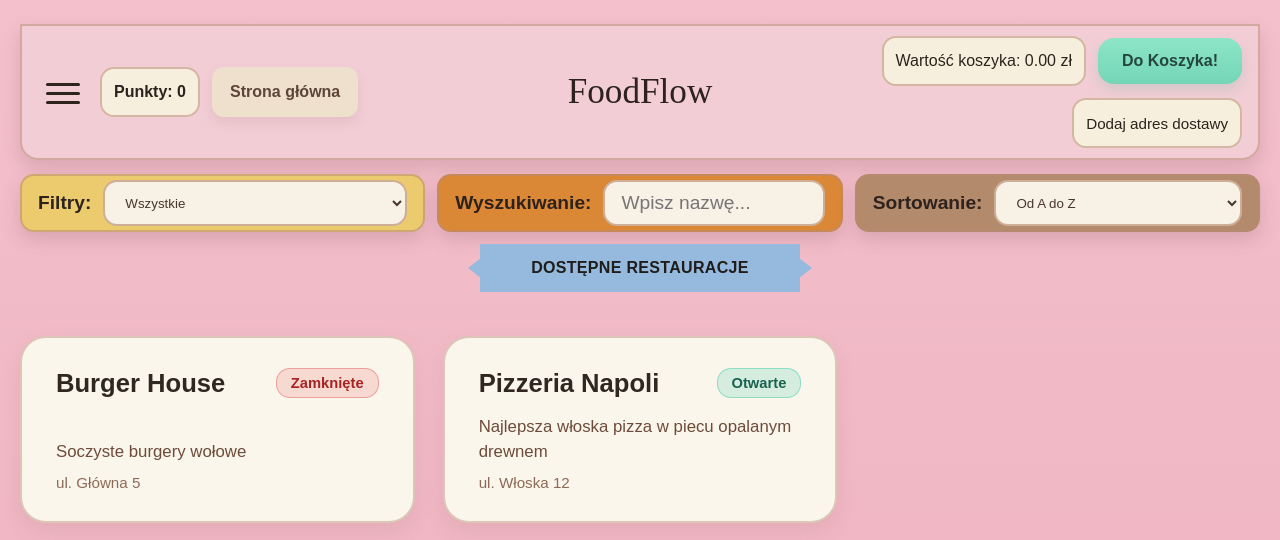
Scenario: HomeScreen Component › filters restaurants by search query
expect the text "Pizzeria Napoli" is shown: met, box [479,368,659,398]
Step 1. Type "burger" into the field with placeholder "Wpisz nazwę..." → (714, 203), box [604,180,825,226]
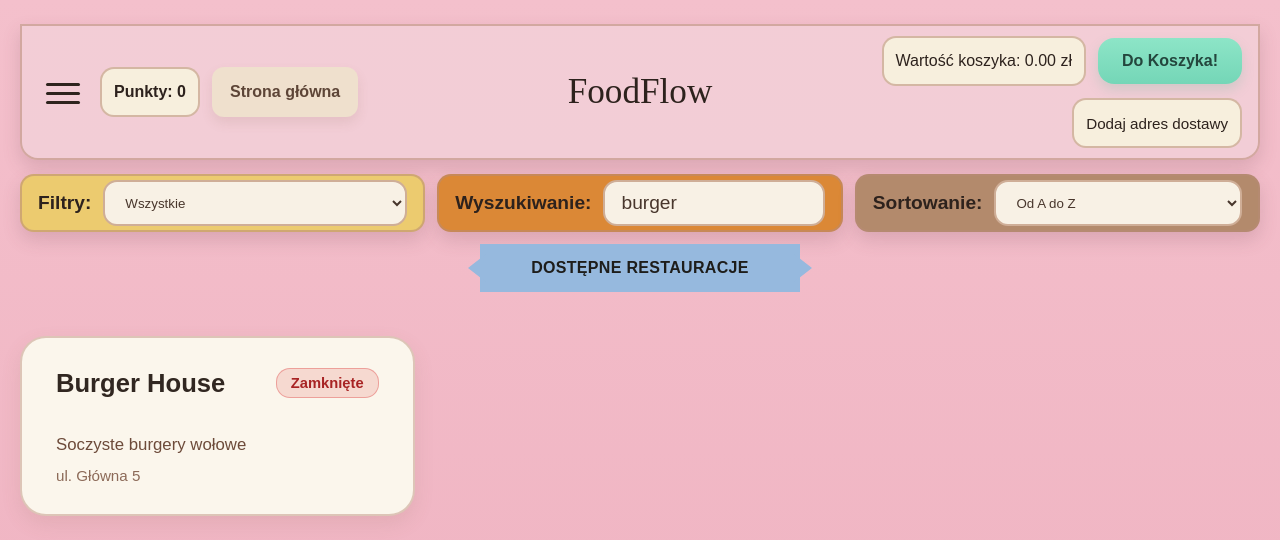
expect the text "Burger House" is shown: met, box [56,368,225,398]
expect the button "Pizzeria Napoli" is gone: met
